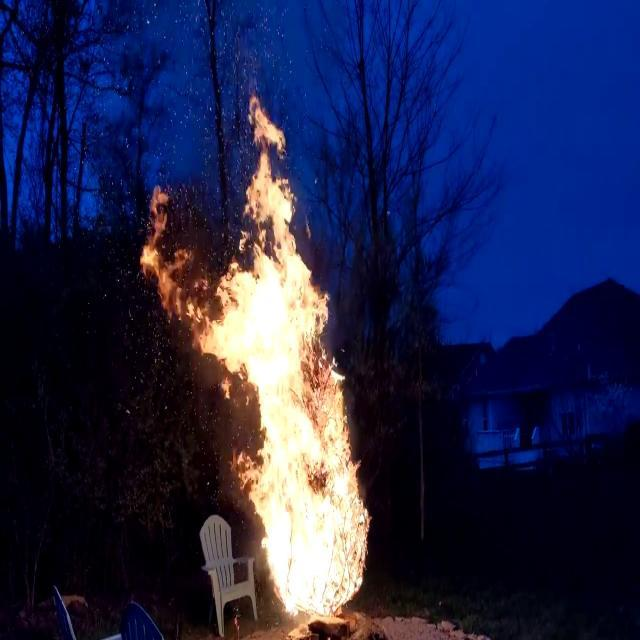Fire: (196, 84, 374, 616)
